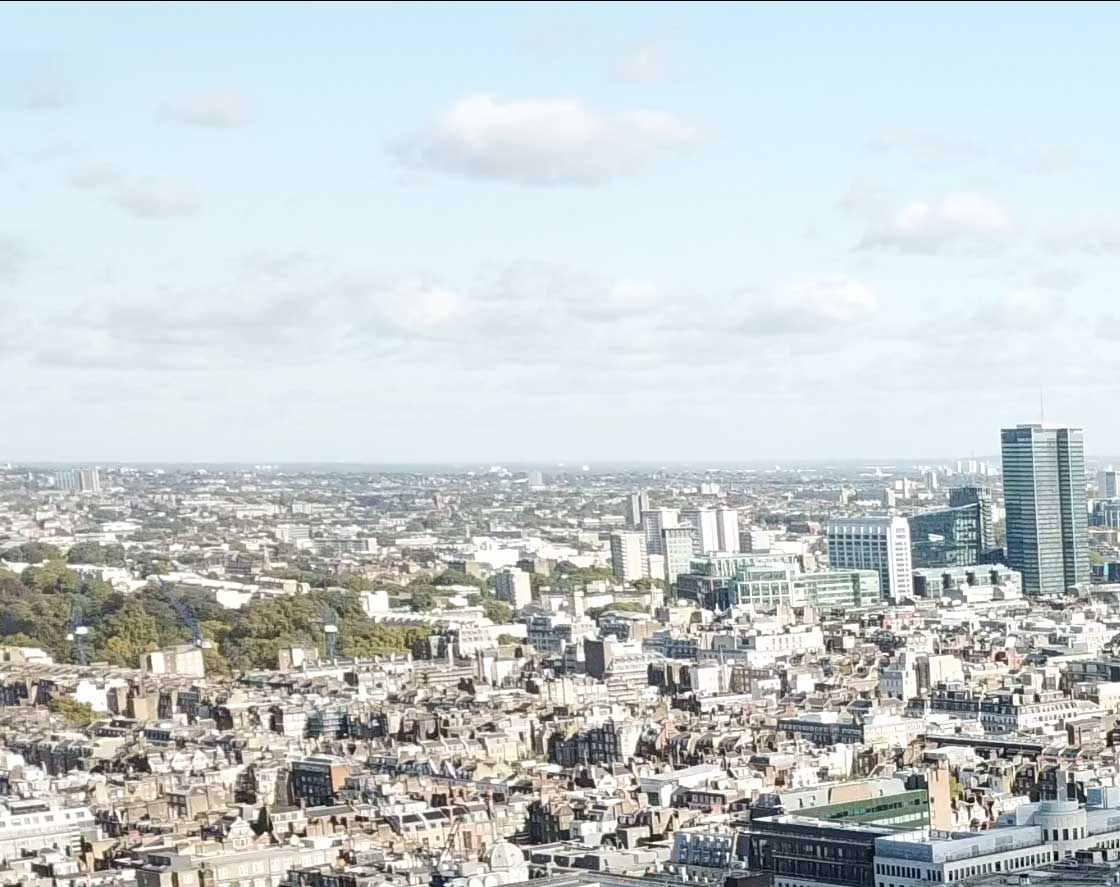building: (745, 779, 1120, 882), (984, 412, 1106, 598)
cloud: (379, 84, 726, 202)
